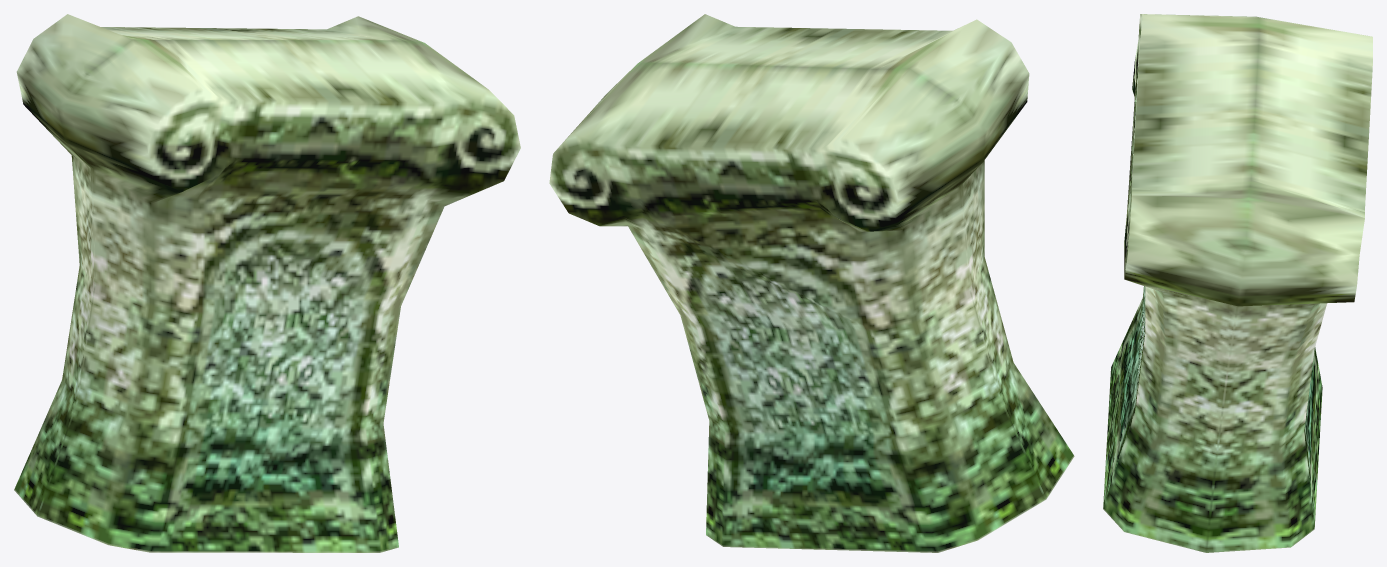
Rendered from a_tomb_2.glb.
3 renders of one model, left to right at view 1: azimuth 30°, elevation 25°; view 2: azimuth 150°, elevation 25°; view 3: azimuth 270°, elevation 25°, orthographic. The views are drawn at different scales.
Visible parts, largest first — view 1: a_tomb_2; view 2: a_tomb_2; view 3: a_tomb_2.
Part boxes in pixels (x1,y1,x2,y2): a_tomb_2: (14,14,520,552); a_tomb_2: (549,14,1074,552); a_tomb_2: (1103,14,1372,552).
Size of the model in its own units: 172 by 188 by 102.
1 material, 1 textured.
